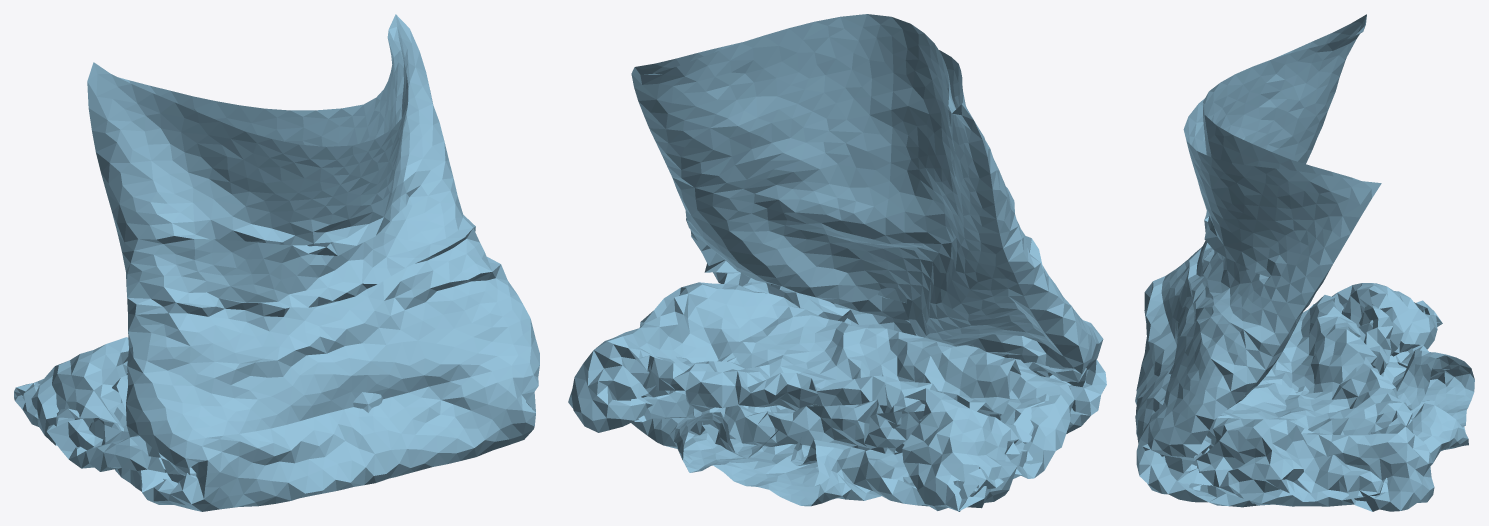
File: frame_16.glb
3 views of the same model, side by side, from view 1: azimuth 30°, elevation 25°; view 2: azimuth 150°, elevation 25°; view 3: azimuth 270°, elevation 25° (orthographic). The views are drawn at different scales.
Visible parts, largest first — view 1: frame_16.obj; view 2: frame_16.obj; view 3: frame_16.obj.
Part boxes in pixels (x1,y1,x2,y2): frame_16.obj: (14, 14, 539, 511); frame_16.obj: (568, 14, 1106, 511); frame_16.obj: (1135, 14, 1474, 511).
Size of the model in its own units: 0.9541 by 0.828 by 0.7353.
